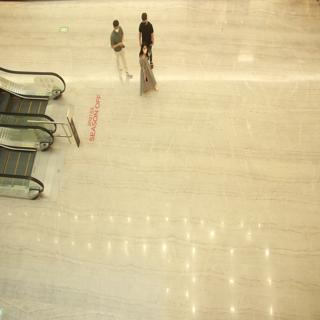person: (105, 15, 133, 80), (136, 42, 160, 98), (136, 6, 158, 63)
